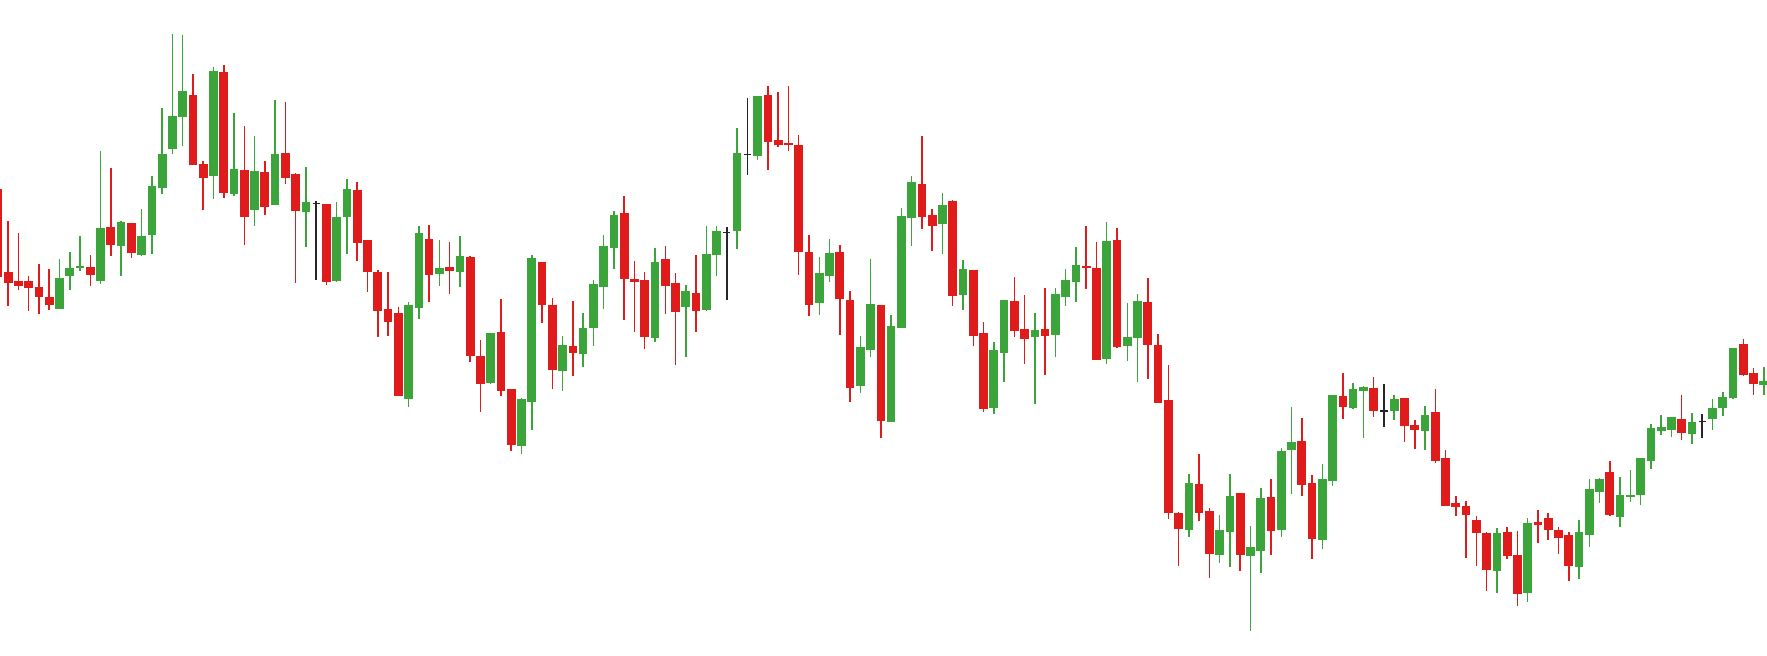buy: (1308, 447, 1506, 606)
